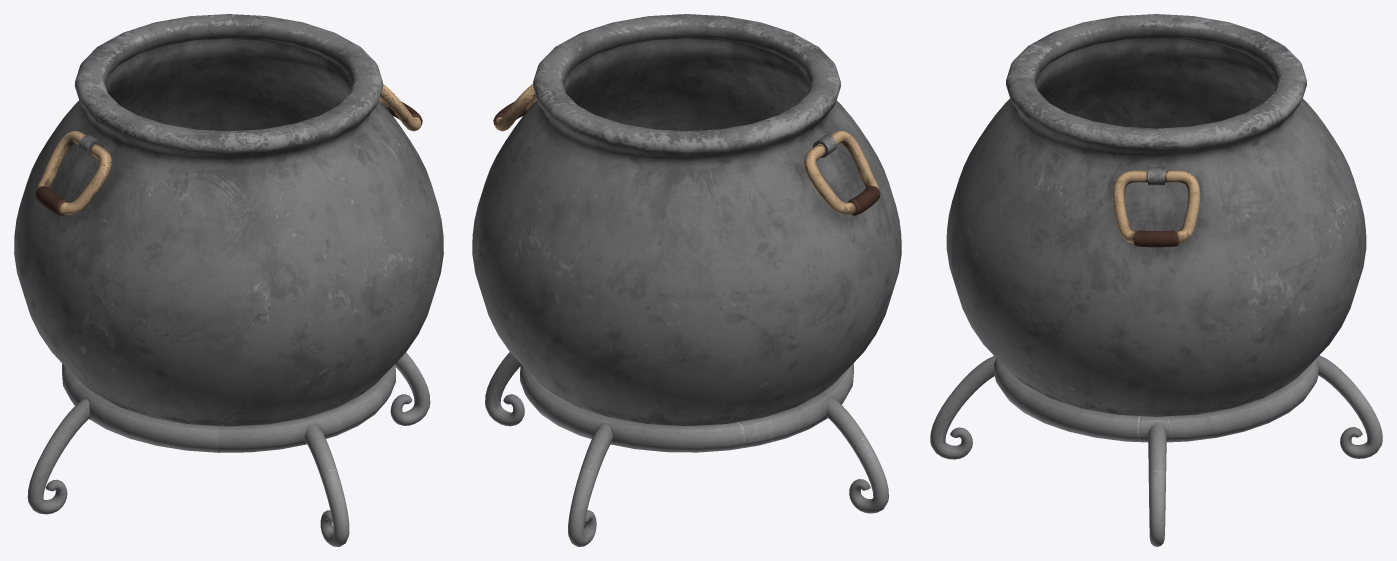
3 views of the same model, side by side, from view 1: azimuth 30°, elevation 25°; view 2: azimuth 150°, elevation 25°; view 3: azimuth 270°, elevation 25° (orthographic). The views are drawn at different scales.
Visible parts, largest first — view 1: CauldronPot_low, Stand_low, Standlegs_low, CauldronHandle_low; view 2: CauldronPot_low, Stand_low, Standlegs_low, CauldronHandle_low; view 3: CauldronPot_low, Stand_low, Standlegs_low, CauldronHandle_low.
Boxes of the visible parts, left/top/right/bottom form: CauldronPot_low: left=14, top=14, right=443, bottom=426; Stand_low: left=62, top=363, right=395, bottom=452; Standlegs_low: left=27, top=352, right=430, bottom=546; CauldronHandle_low: left=35, top=84, right=422, bottom=215; CauldronPot_low: left=472, top=14, right=901, bottom=425; Stand_low: left=520, top=363, right=853, bottom=452; Standlegs_low: left=485, top=352, right=888, bottom=546; CauldronHandle_low: left=493, top=84, right=880, bottom=215; CauldronPot_low: left=946, top=14, right=1366, bottom=416; Stand_low: left=993, top=358, right=1319, bottom=442; Standlegs_low: left=930, top=355, right=1382, bottom=546; CauldronHandle_low: left=1112, top=170, right=1200, bottom=247.
Size of the model in its own units: 1.06 by 0.9934 by 1.06.
1 material, 1 textured.
